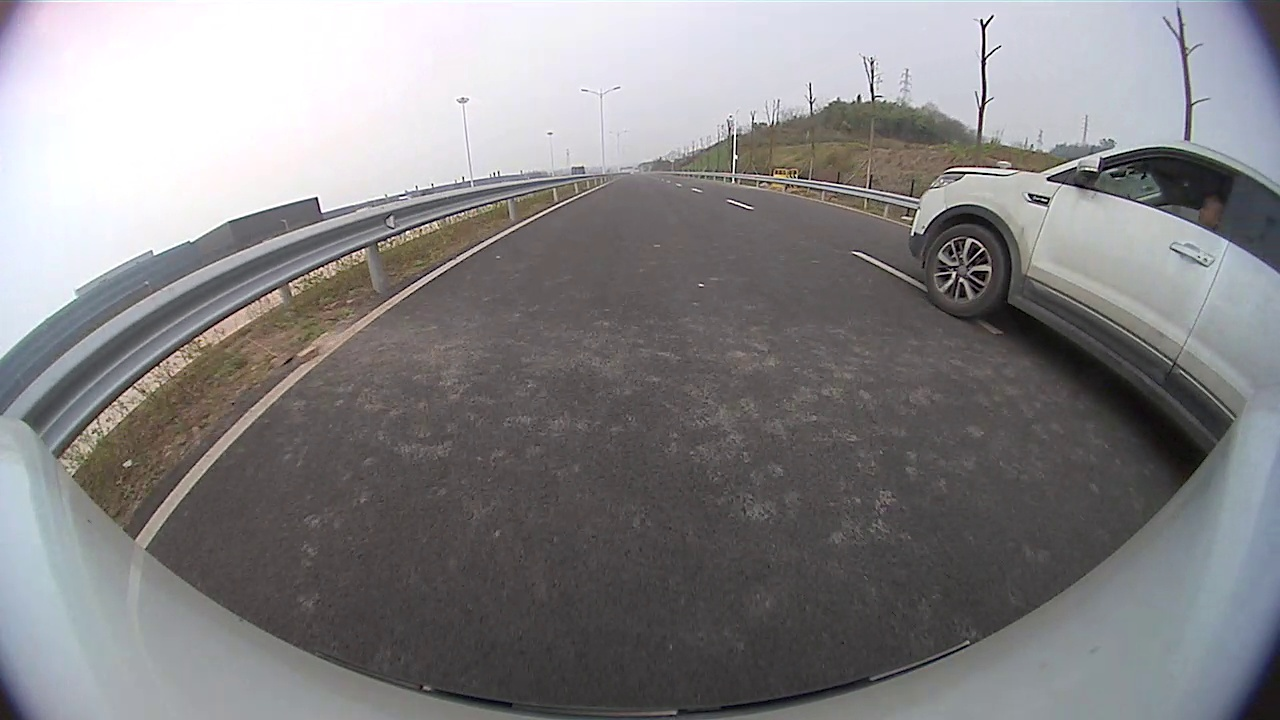car: (909, 138, 1279, 453)
front: (925, 223, 1004, 318)
